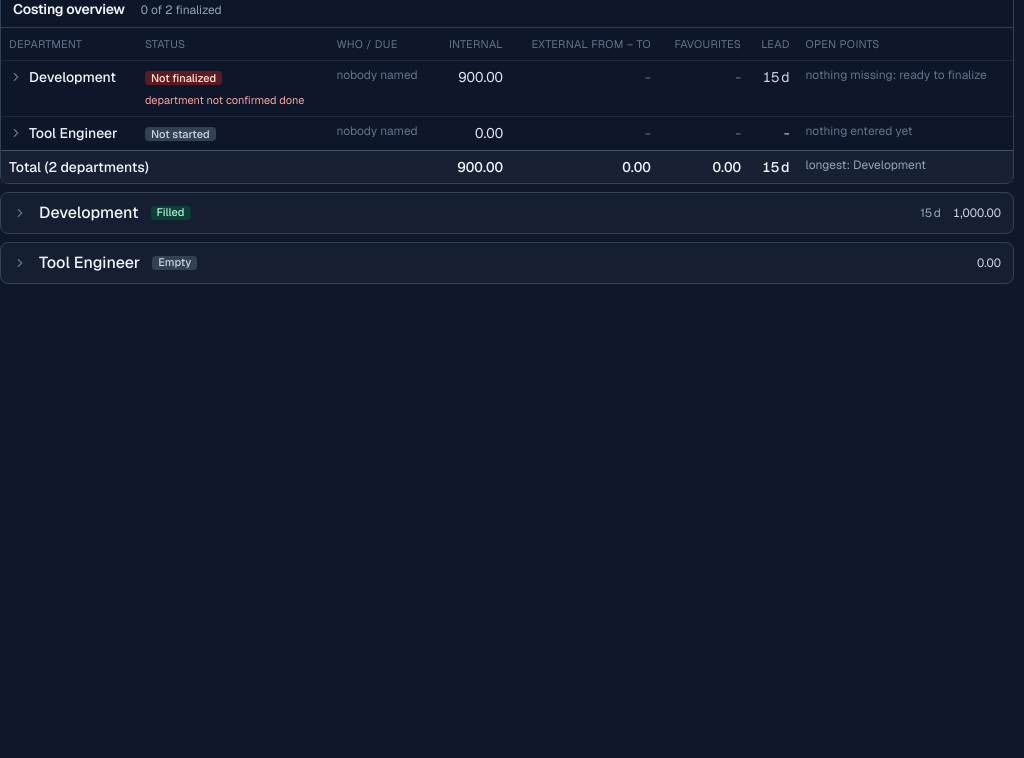
Test case: CostingBuckets › lets PM see the figures and which buckets are still empty
The image size is (1024, 758).
expect the text with test id "costing-total-2" reads "1,000.00": met, box top-left (953, 205), bottom-right (1001, 221)
expect the text with test id "costing-state-2" reads "Filled": met, box top-left (156, 205), bottom-right (184, 219)
Click the button with test id "costing-toggle-4" at point(90, 262), box top-left (1, 243), bottom-right (1013, 283)
(page scrolled)
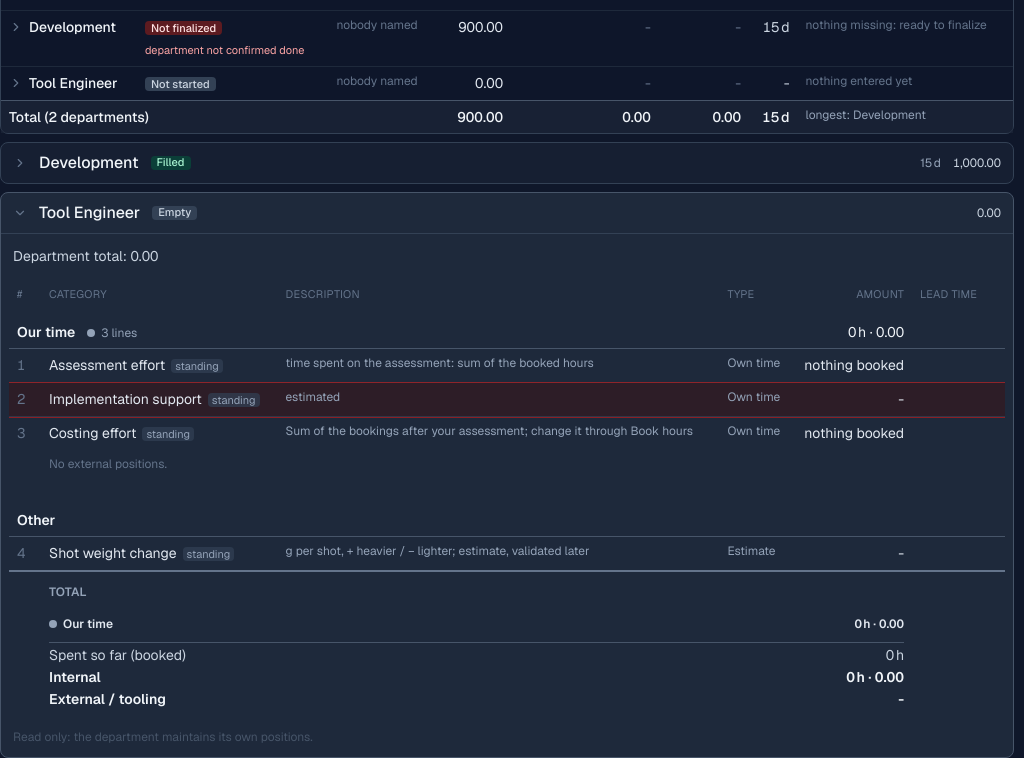
expect the element with test id "costing-readonly-4" is shown: met
expect the text "Read only: the department maintains its own positions." is shown: met, box top-left (13, 729), bottom-right (313, 745)
